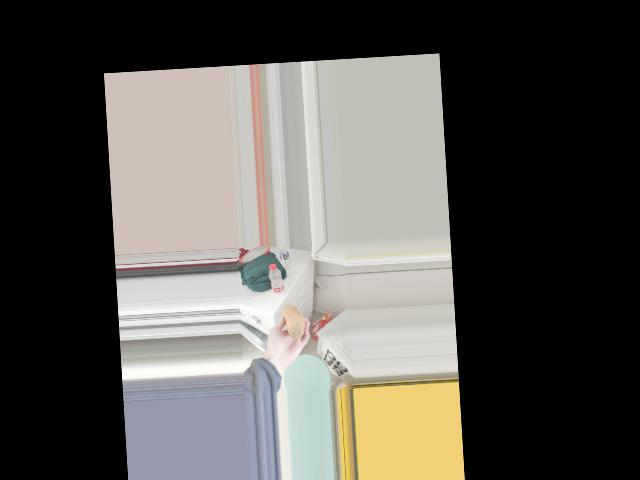sweet_potato: (284, 303, 304, 344)
